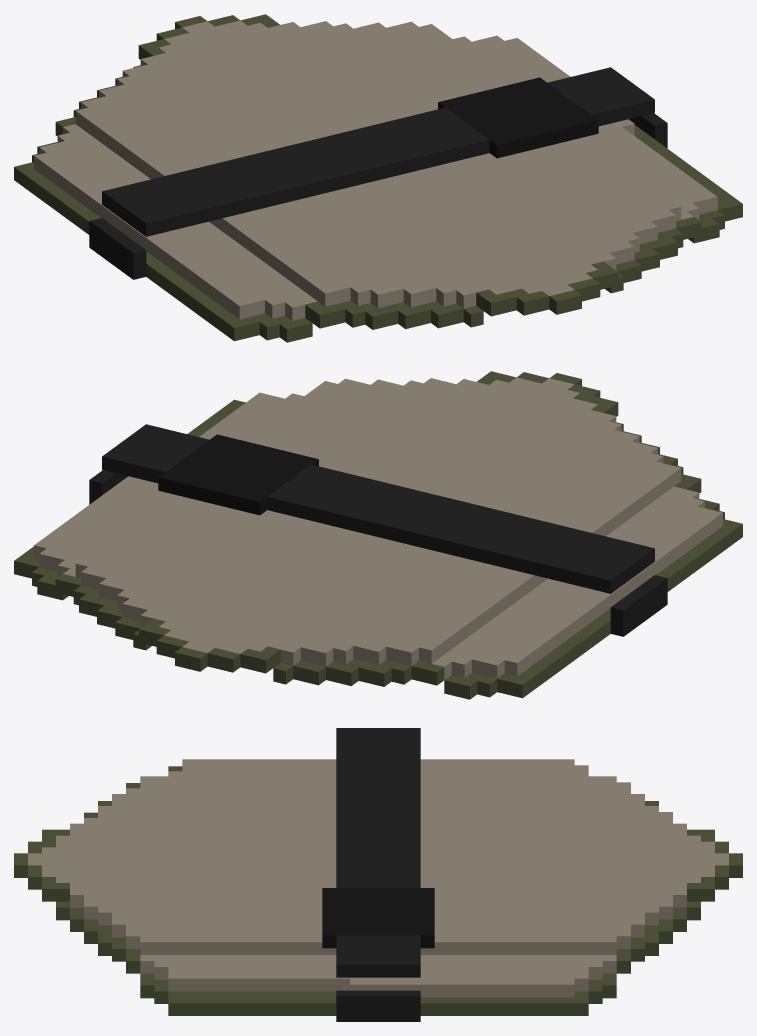
The model's file is forged_steel_side_plate.glb.
3 views of the same model, one above another, from view 1: azimuth 30°, elevation 25°; view 2: azimuth 150°, elevation 25°; view 3: azimuth 270°, elevation 25° (orthographic). The views are drawn at different scales.
Parts seen in each view (by area): view 1: forged_steel_side_plate:compound; view 2: forged_steel_side_plate:compound; view 3: forged_steel_side_plate:compound.
Part boxes in pixels (x1,y1,x2,y2): forged_steel_side_plate:compound: [14, 14, 742, 342]; forged_steel_side_plate:compound: [14, 371, 742, 699]; forged_steel_side_plate:compound: [14, 728, 742, 1021].
Bounding box in the file's own units: 0.168 × 0.016 × 0.208.
